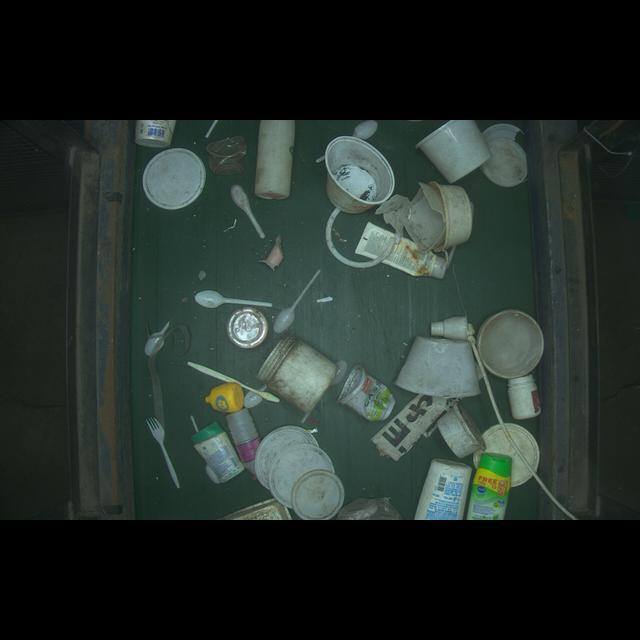PP: (336, 362, 399, 425), (201, 379, 245, 414)
